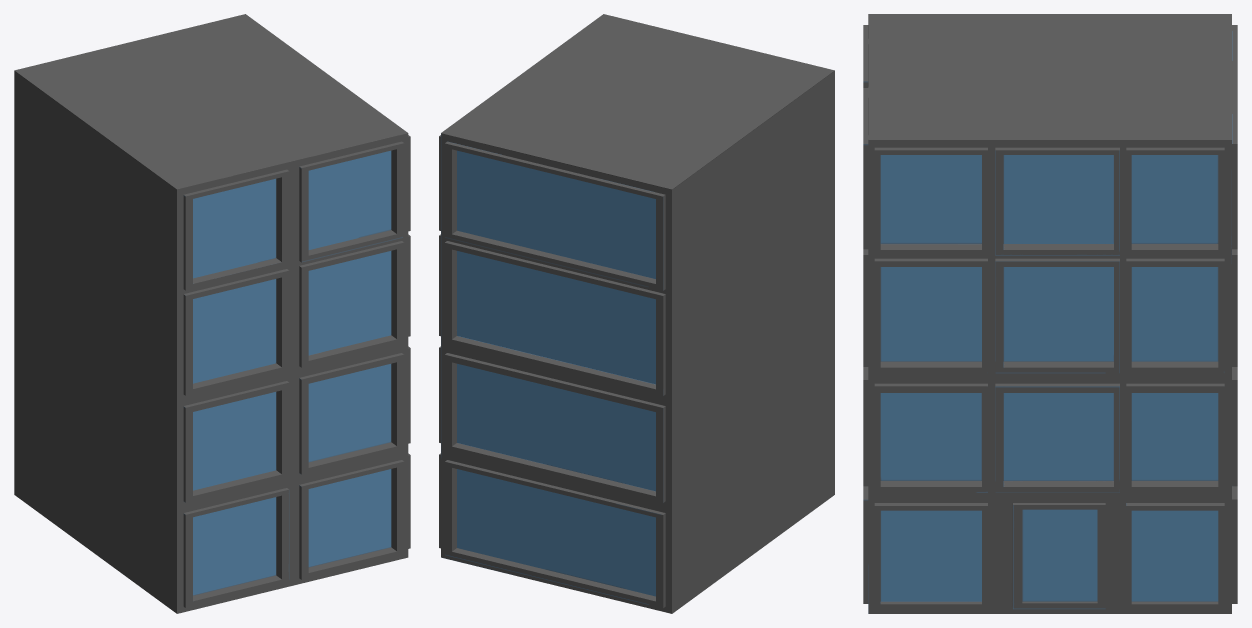
File: Gray building.fbx
The picture shows the model from 3 angles, left to right: view 1: azimuth 30°, elevation 25°; view 2: azimuth 150°, elevation 25°; view 3: azimuth 270°, elevation 25°; orthographic projection. The views are drawn at different scales.
Parts seen in each view (by area): view 1: gray; view 2: gray; view 3: gray.
Boxes of the visible parts, bbox=[...] form: gray: bbox=[14, 14, 410, 613]; gray: bbox=[439, 14, 834, 613]; gray: bbox=[863, 14, 1237, 613].
Bounding box in the file's own units: 810 × 1390 × 996.
1 material, 1 textured.
